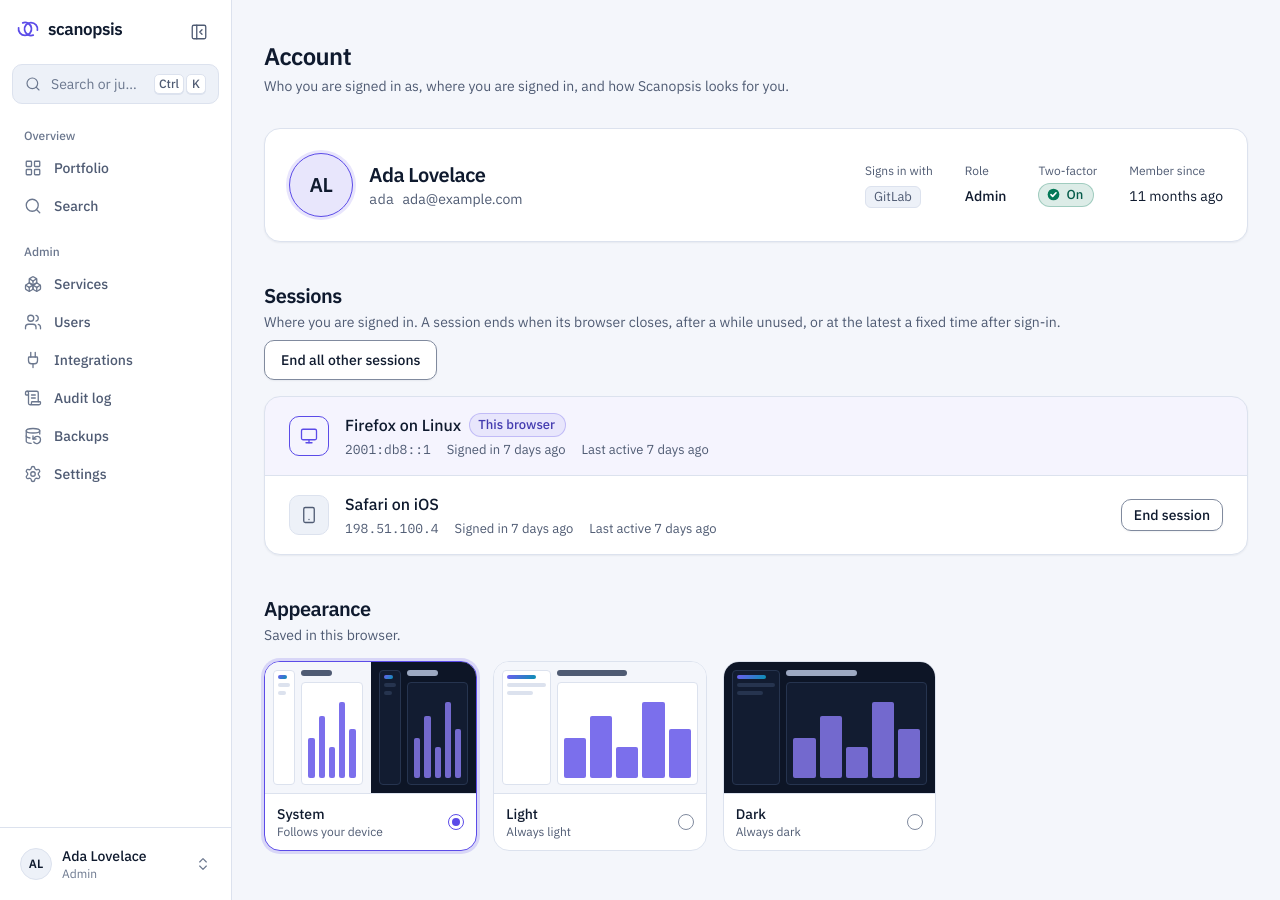
account page › ends one session after confirmation
Click the button "End session": {"x": 1172, "y": 515} [1121, 499, 1223, 531]
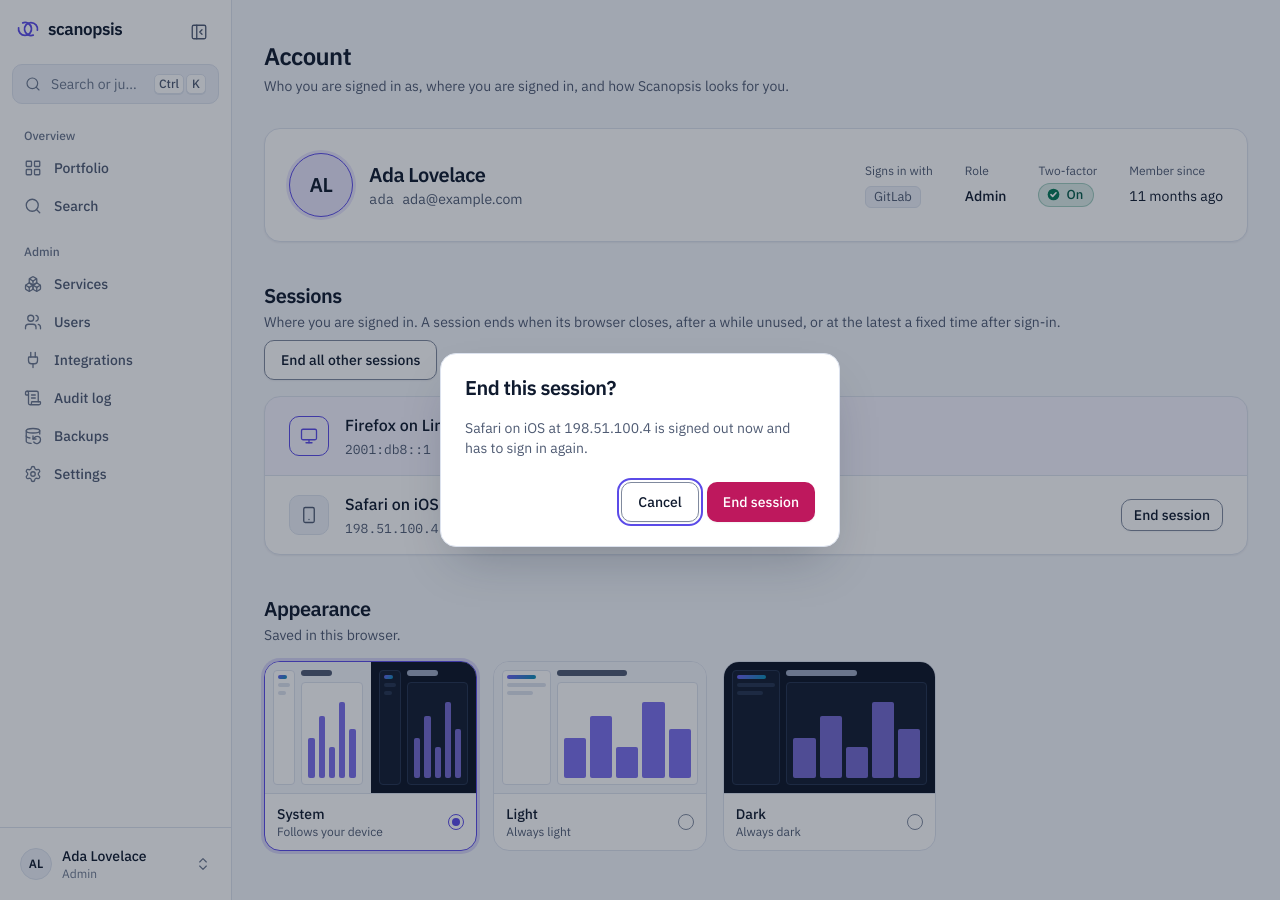
expect the text "Safari on iOS at 198.51.100.4" is shown: met, box [465, 418, 815, 458]
Click the button "End session": {"x": 761, "y": 502} [707, 482, 815, 522]
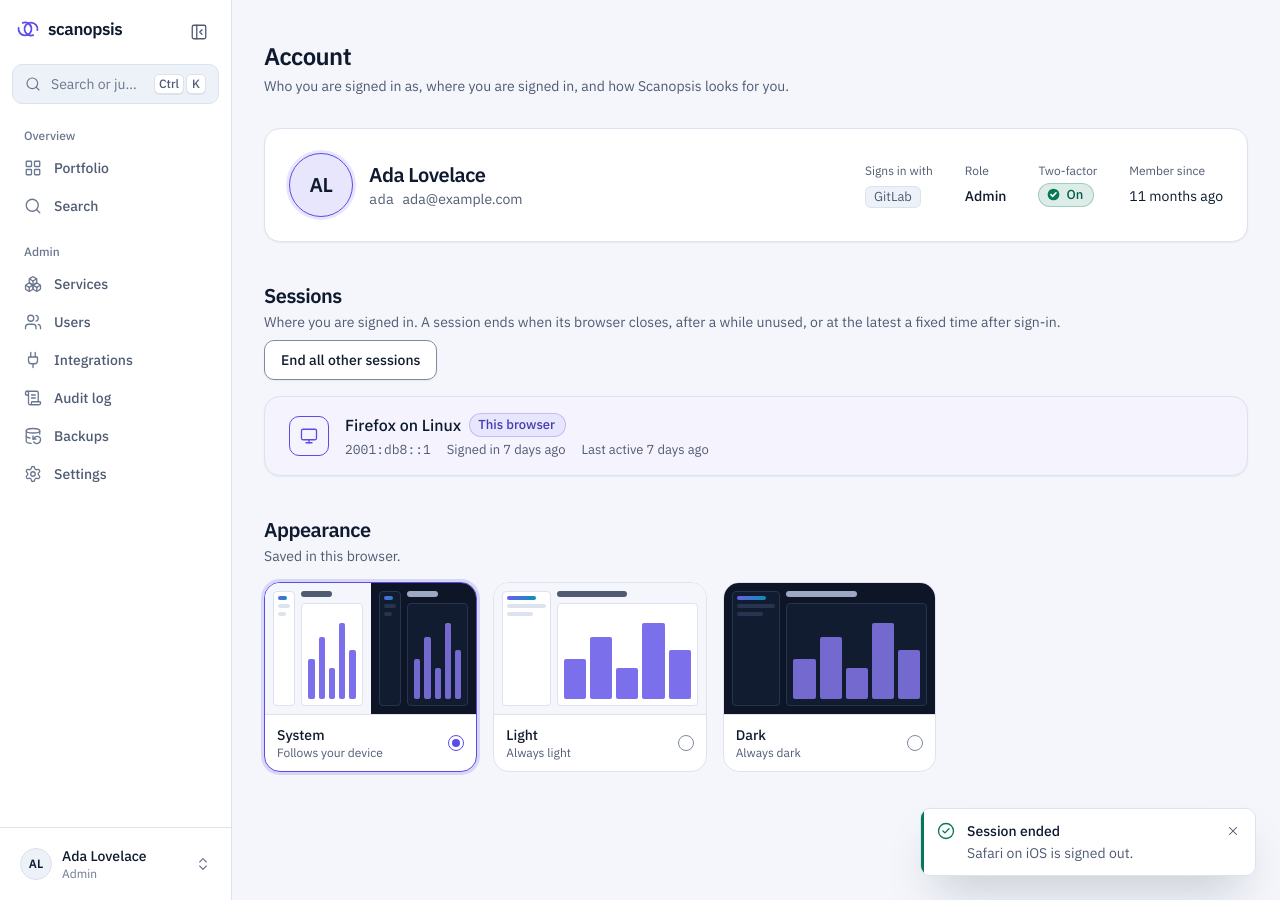
expect the text "2001:db8::1" is shown: met, box [345, 441, 431, 459]
expect the text "Session ended" is shown: met, box [967, 822, 1060, 840]
expect the text "Safari on iOS is signed out." is shown: met, box [967, 843, 1133, 863]
